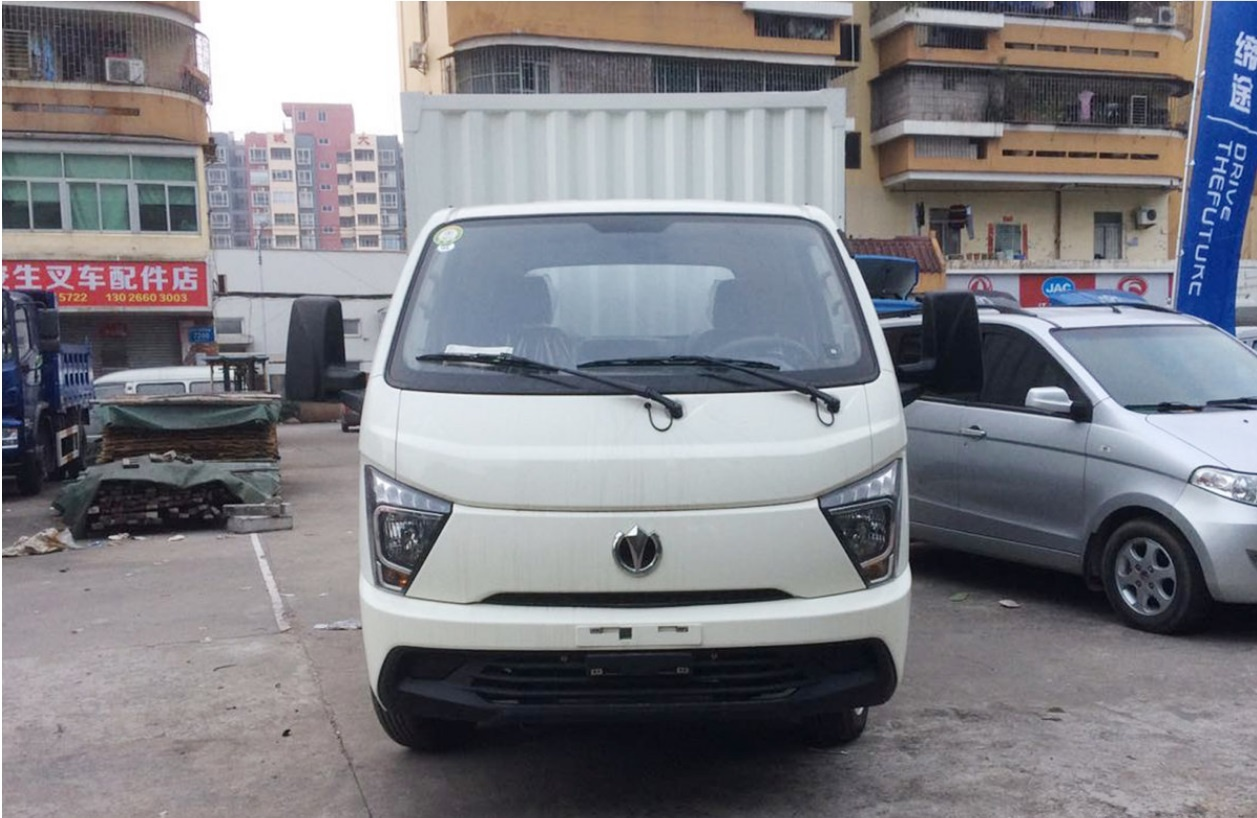truck: (347, 81, 918, 742)
